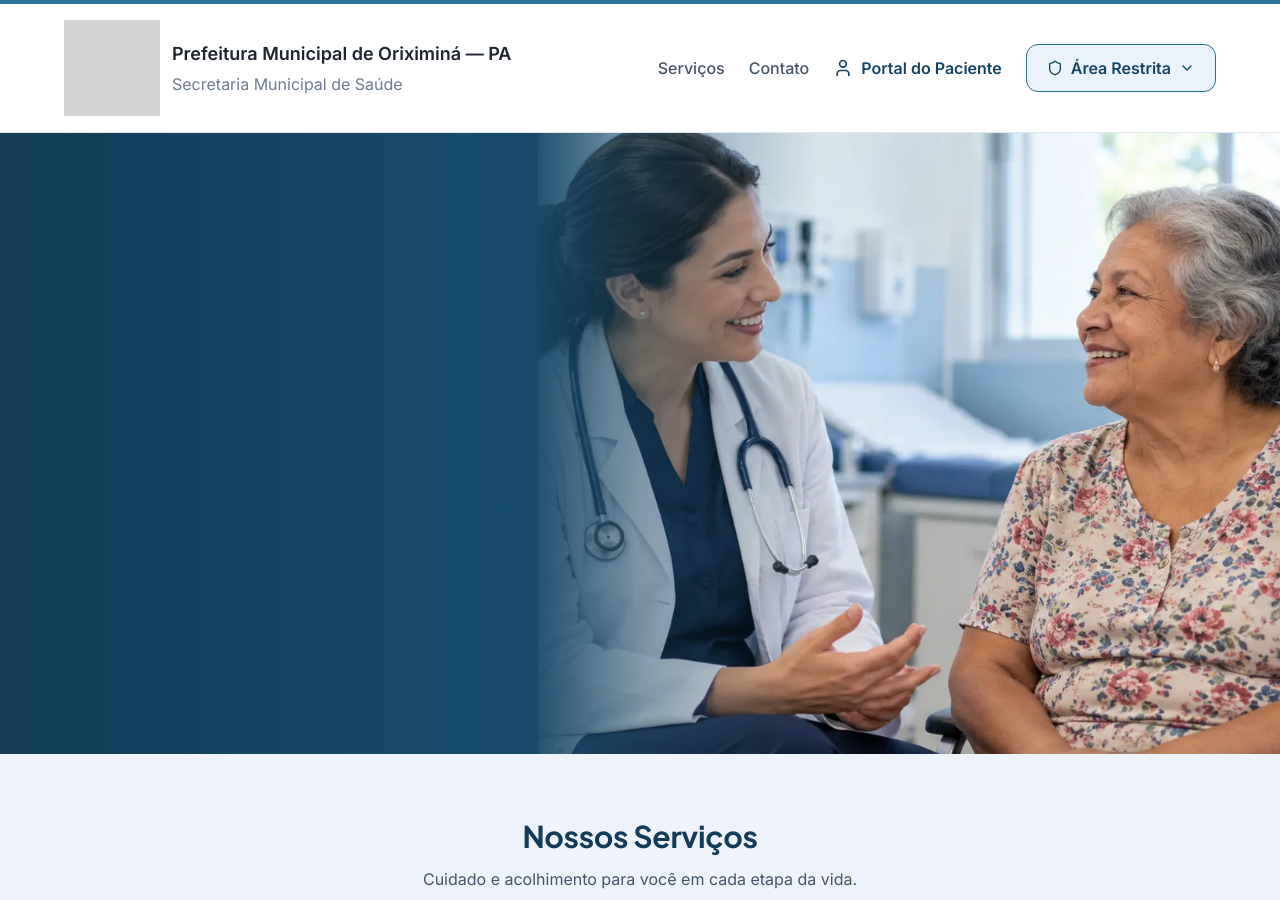
it: Home navigation › makes the patient portal available directly in the public navigation
Step 1. Click the link "Portal do Paciente" → point(918, 68), box [833, 58, 1002, 78]
(page scrolled)
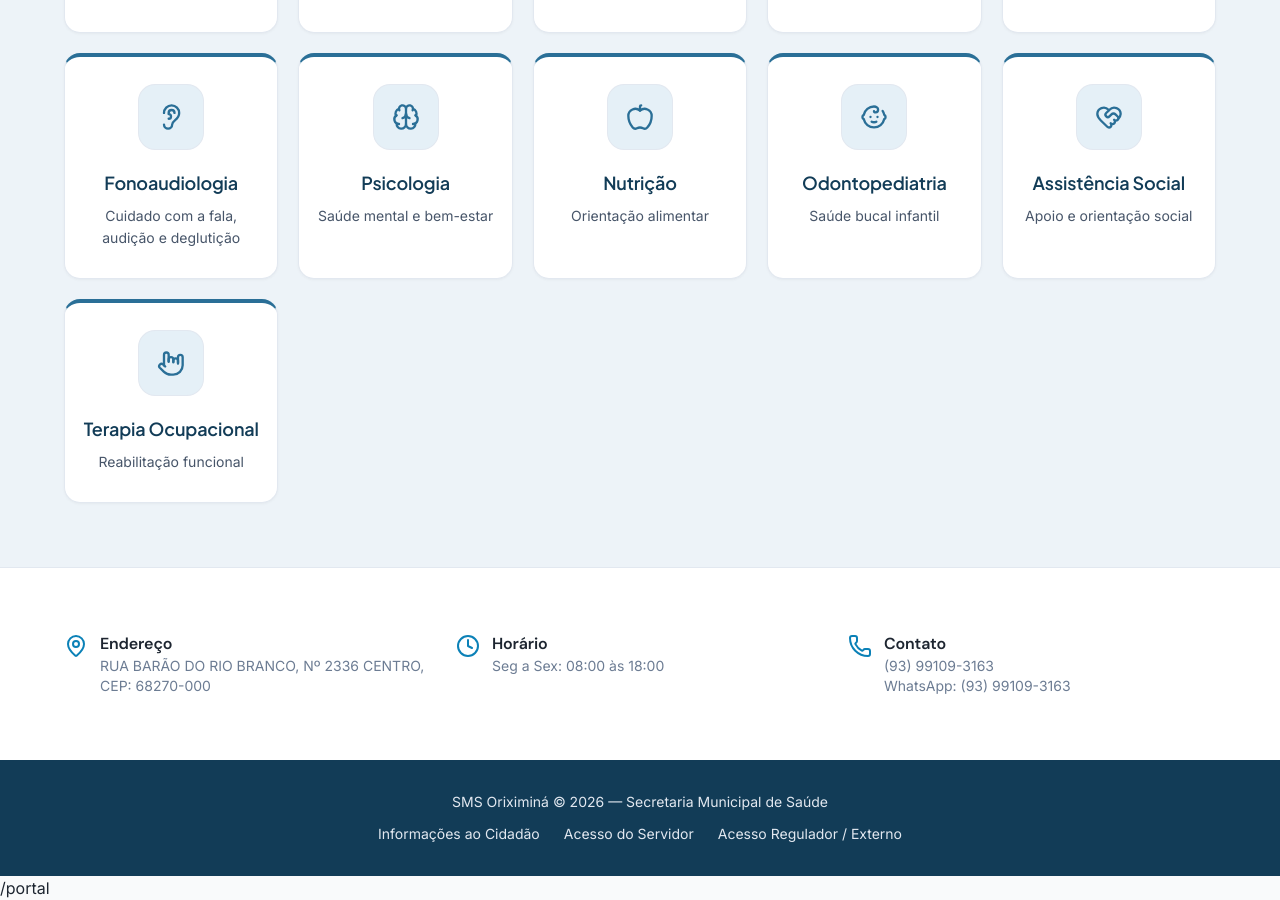
Expected: the text with test id "location" reads "/portal", [0, 878, 50, 898]
